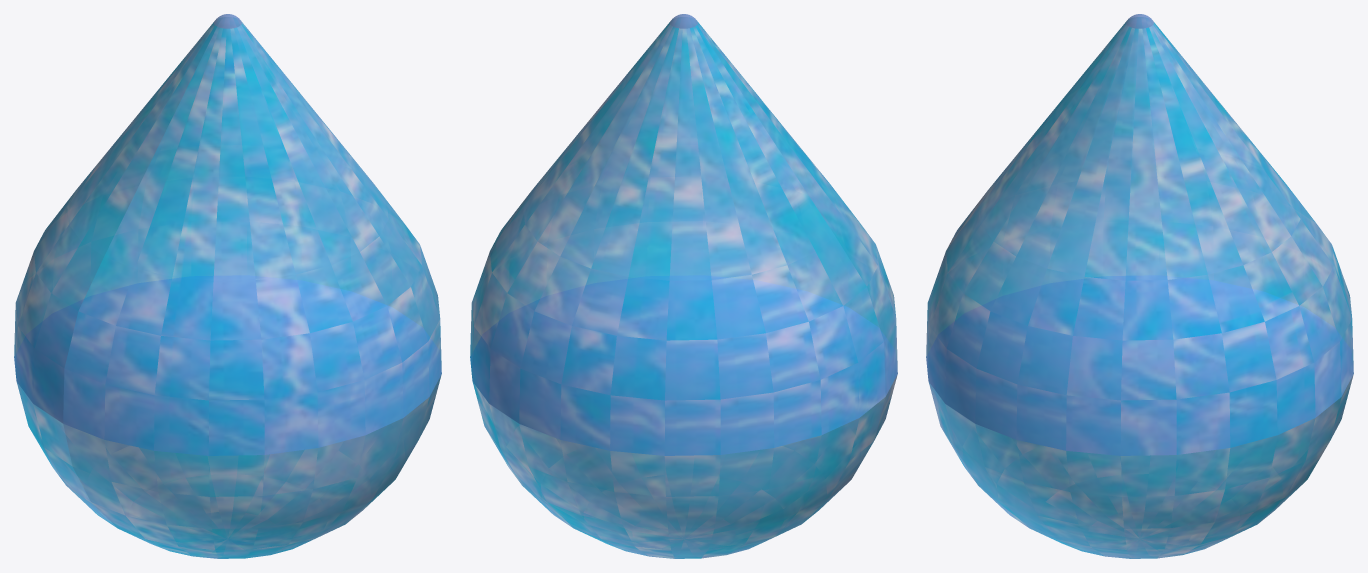
File: SUPreview1.dae
The picture shows the model from 3 angles, left to right: view 1: azimuth 30°, elevation 25°; view 2: azimuth 150°, elevation 25°; view 3: azimuth 270°, elevation 25°; orthographic projection.
Parts seen in each view (by area): view 1: Component_1; view 2: Component_1; view 3: Component_1.
Boxes of the visible parts, x1,y1,x2,y2 form: Component_1: (14,14,441,558); Component_1: (470,14,897,558); Component_1: (926,14,1353,558).
Bounding box in the file's own units: 9620 × 9620 × 12996.
